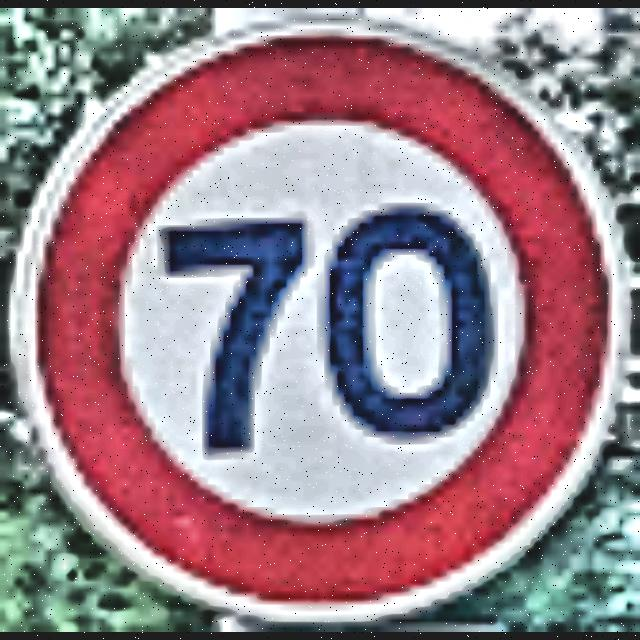speed_70: (0, 8, 632, 626)
